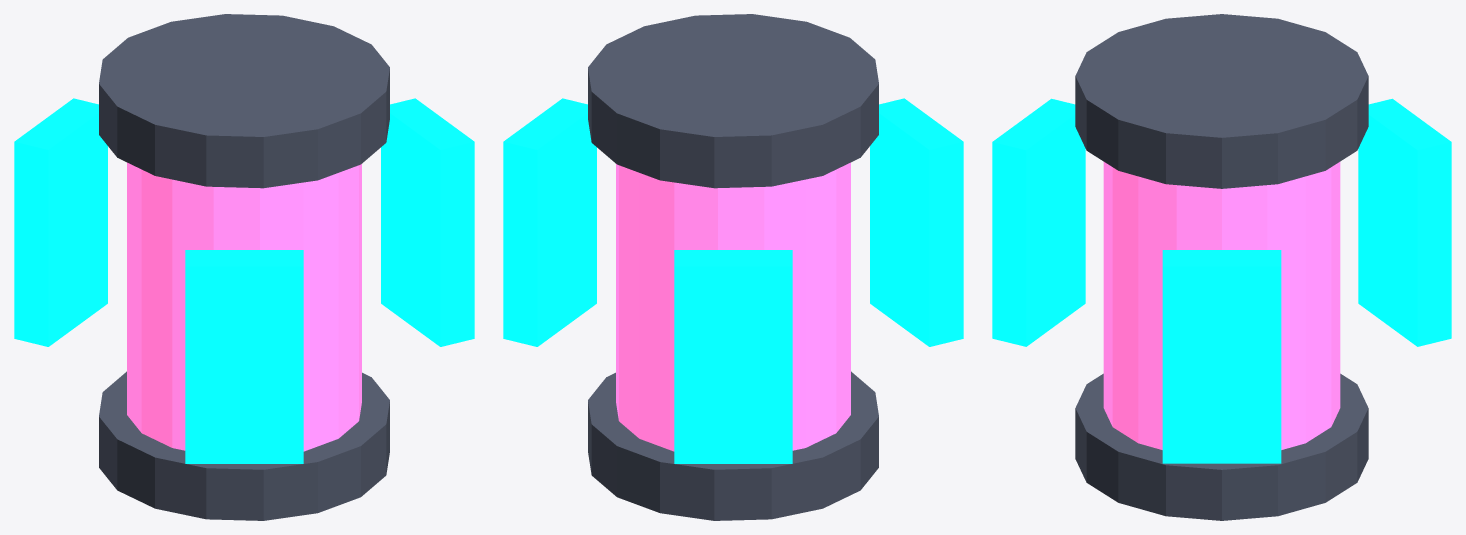
The model's file is item_blaster.glb.
3 renders of one model, left to right at view 1: azimuth 30°, elevation 25°; view 2: azimuth 150°, elevation 25°; view 3: azimuth 270°, elevation 25°, orthographic.
Visible parts, largest first — view 1: Cylinder.002, Cylinder, Cube.002, Cylinder.001, Cube, Cube.001; view 2: Cylinder.002, Cylinder, Cube.001, Cylinder.001, Cube, Cube.002; view 3: Cylinder.002, Cylinder, Cube, Cylinder.001, Cube.001, Cube.002.
Part boxes in pixels (box(x1,y1,x2,y2)): Cylinder.002: box(99, 14, 389, 188); Cylinder: box(127, 162, 361, 451); Cube.002: box(185, 250, 303, 463); Cylinder.001: box(99, 371, 389, 520); Cube: box(381, 98, 474, 346); Cube.001: box(14, 98, 107, 346); Cylinder.002: box(588, 14, 878, 188); Cylinder: box(616, 162, 850, 451); Cube.001: box(674, 250, 792, 463); Cylinder.001: box(588, 371, 878, 520); Cube: box(503, 98, 596, 346); Cube.002: box(870, 98, 963, 346); Cylinder.002: box(1075, 14, 1368, 188); Cylinder: box(1103, 162, 1340, 449); Cube: box(1162, 250, 1281, 463); Cylinder.001: box(1075, 373, 1368, 520); Cube.001: box(1358, 98, 1451, 346); Cube.002: box(992, 98, 1085, 346).
Bounding box in the file's own units: 1.41 × 1.5 × 1.63.
